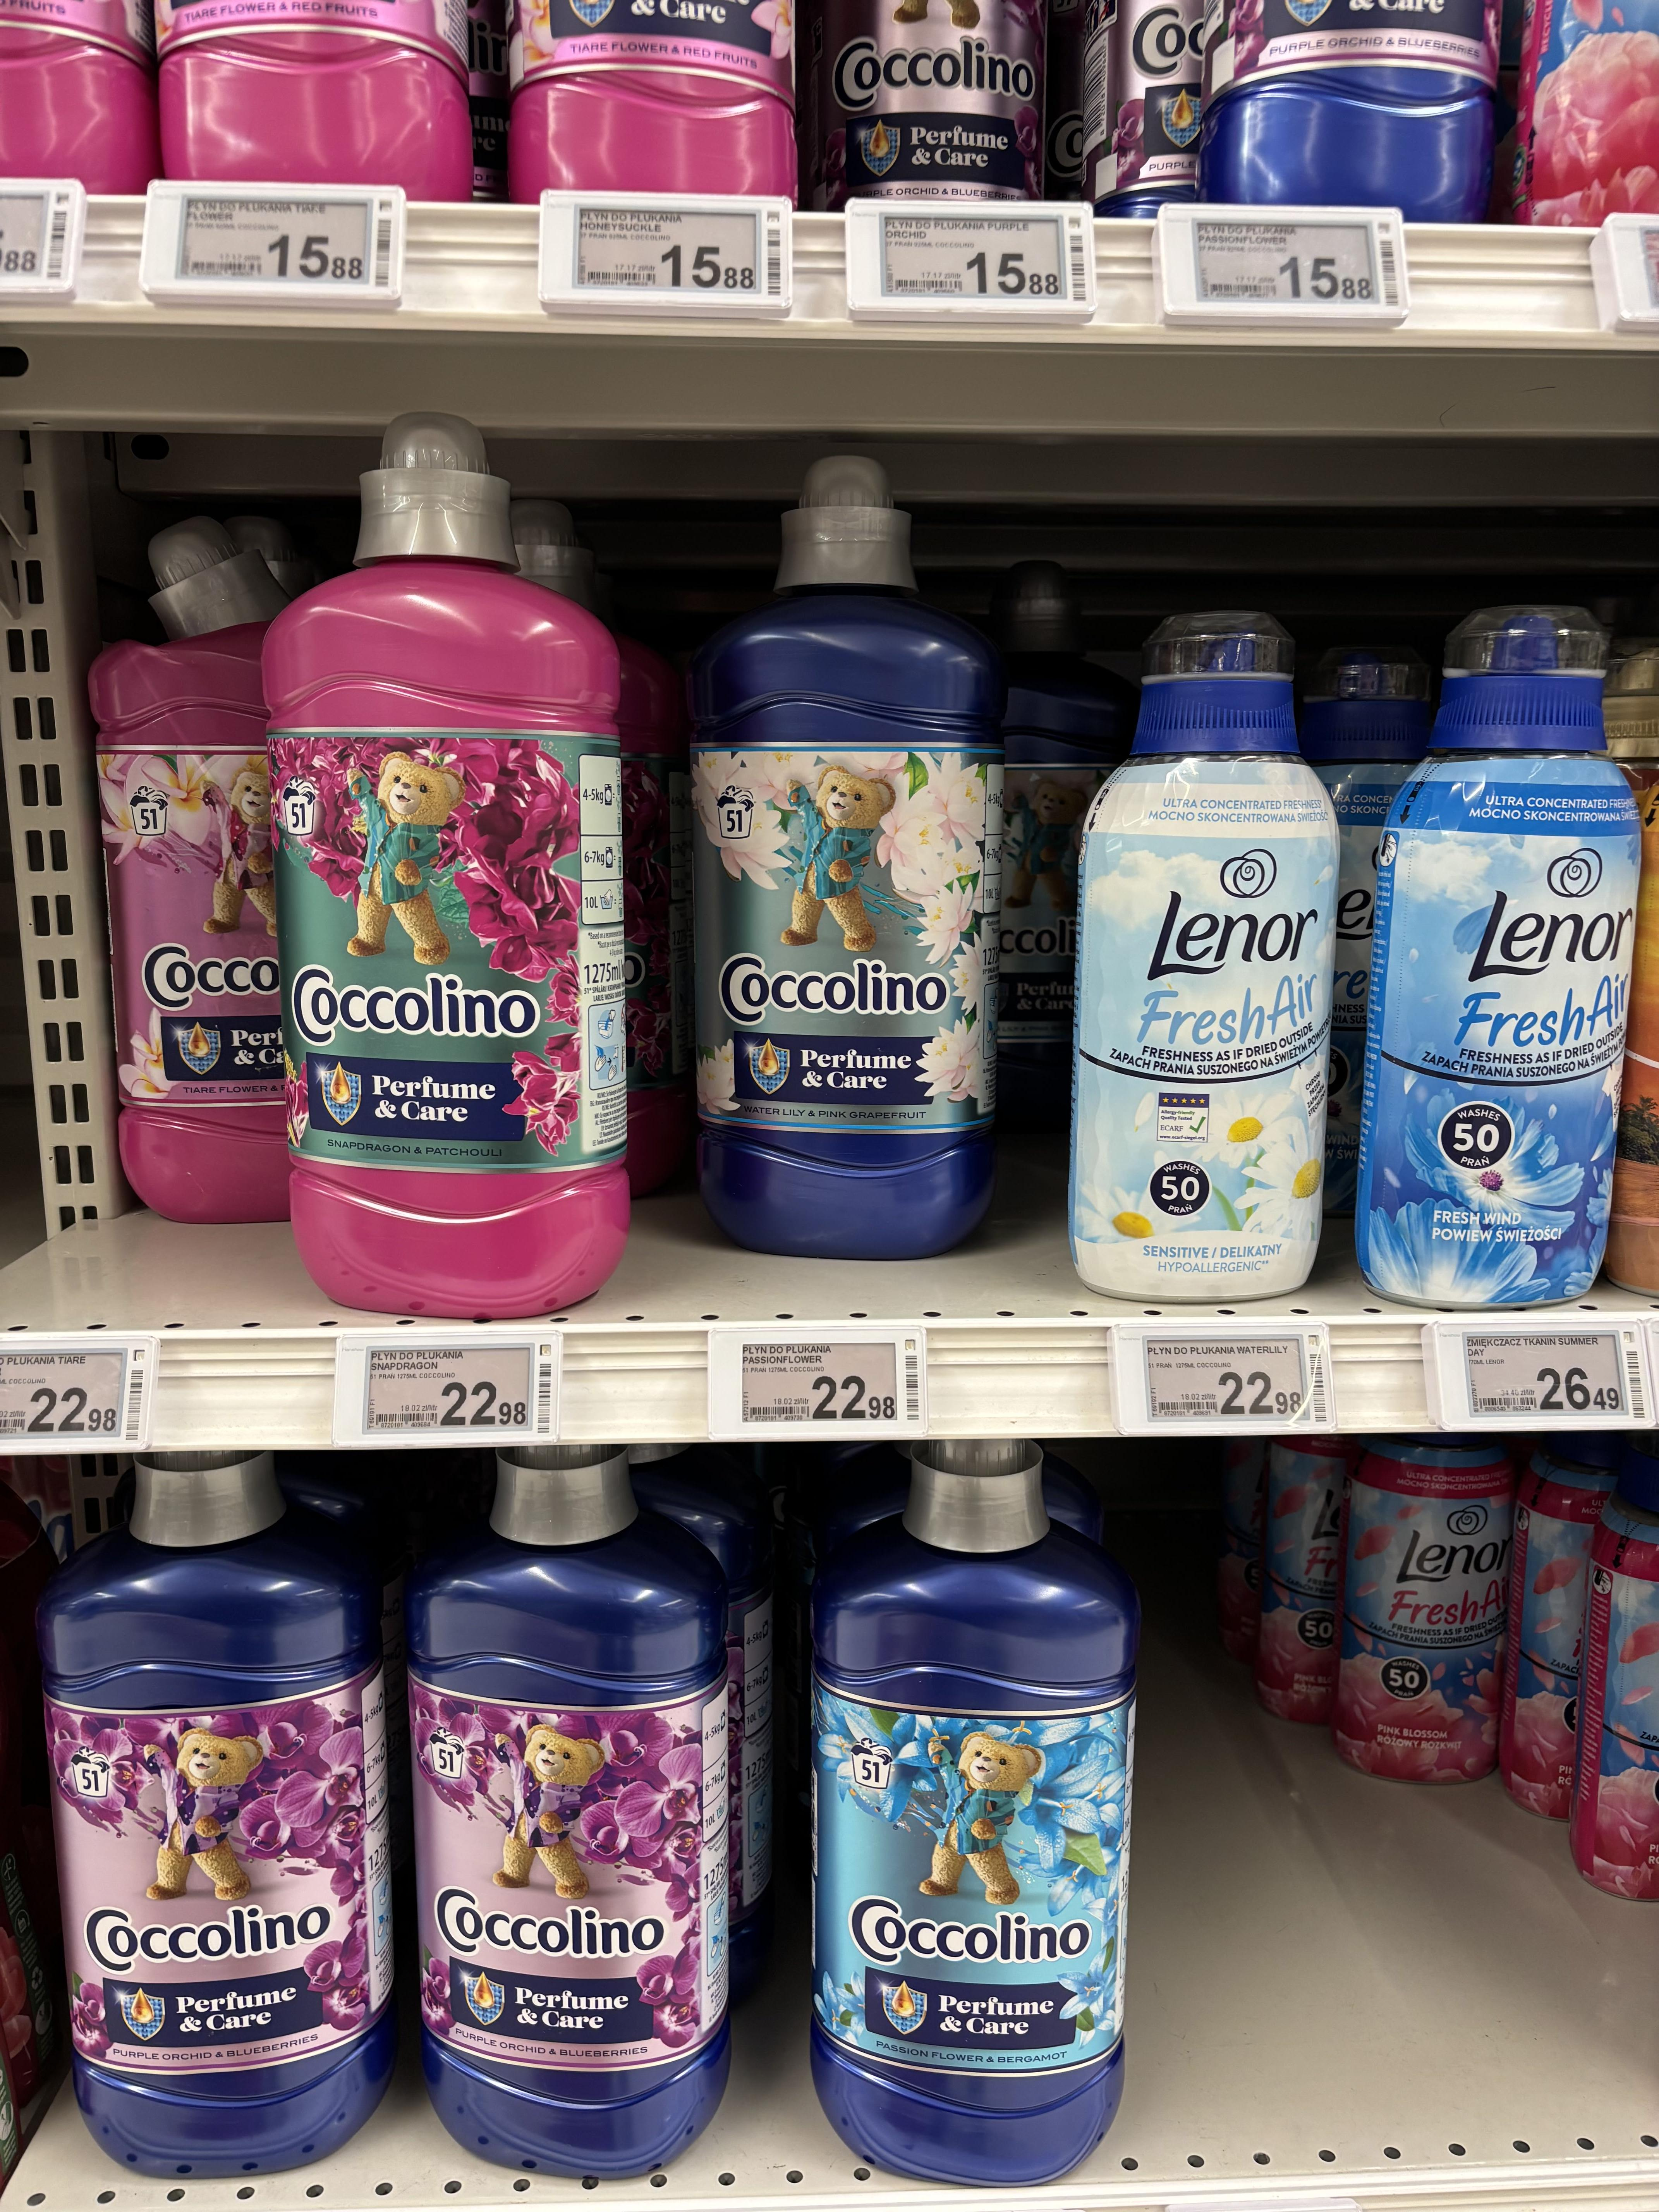cocolino: (240, 577, 655, 1278), (45, 1538, 404, 2158), (716, 596, 1025, 1264), (775, 1578, 1159, 2099), (404, 1545, 720, 2158)
